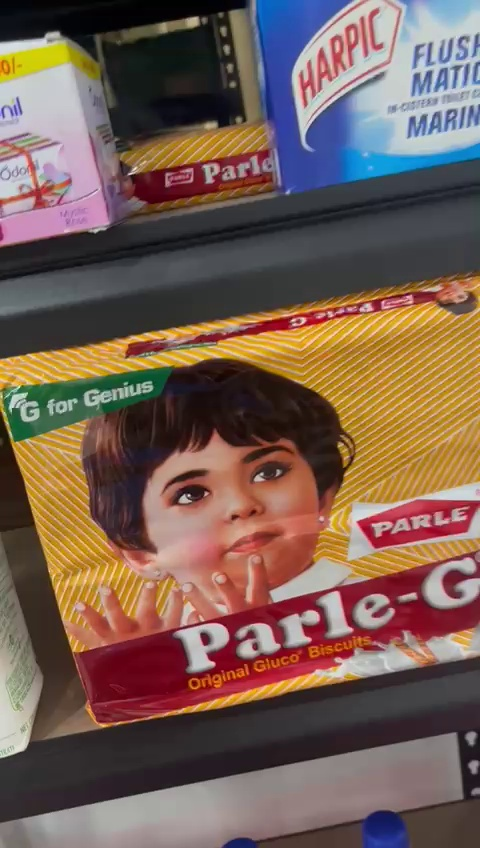Parle-G: (14, 338, 480, 679)
